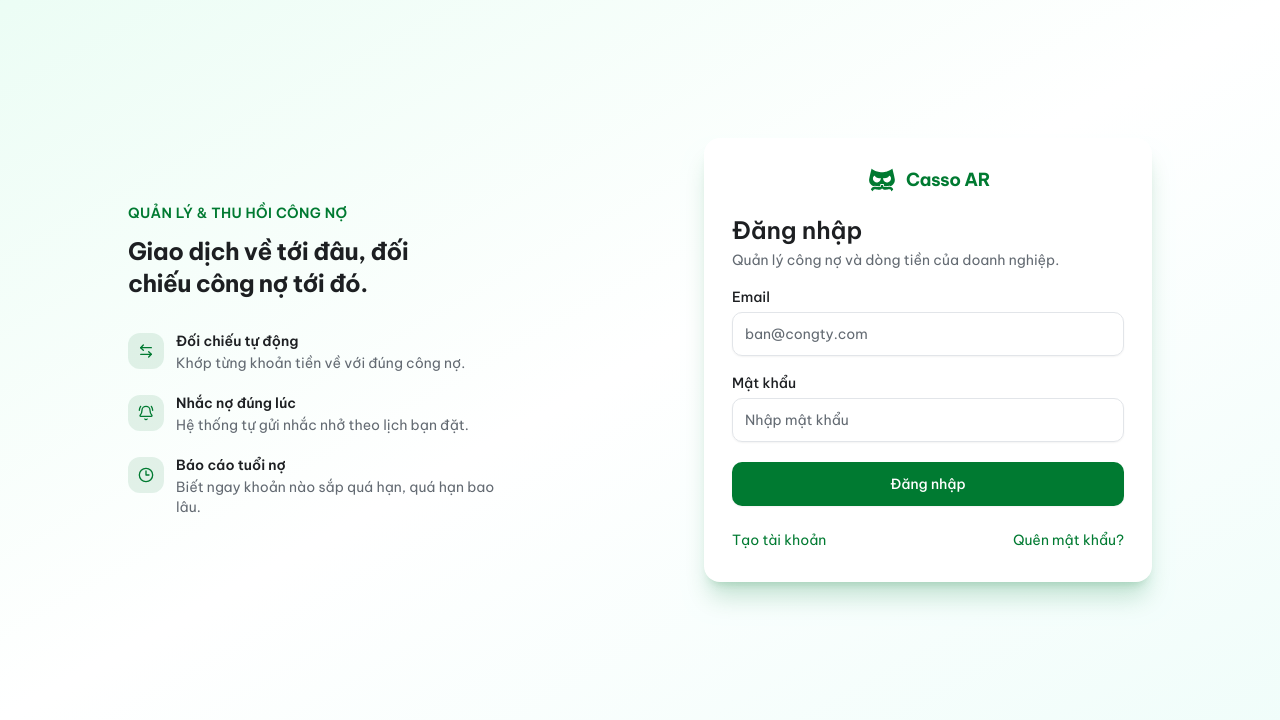
Test: LoginPage › does not blame credentials when the server or network fails
The image size is (1280, 720).
In the field labelled "Email": (928, 334) x1=732 y1=312 x2=1124 y2=356, type "owner@casso.vn"
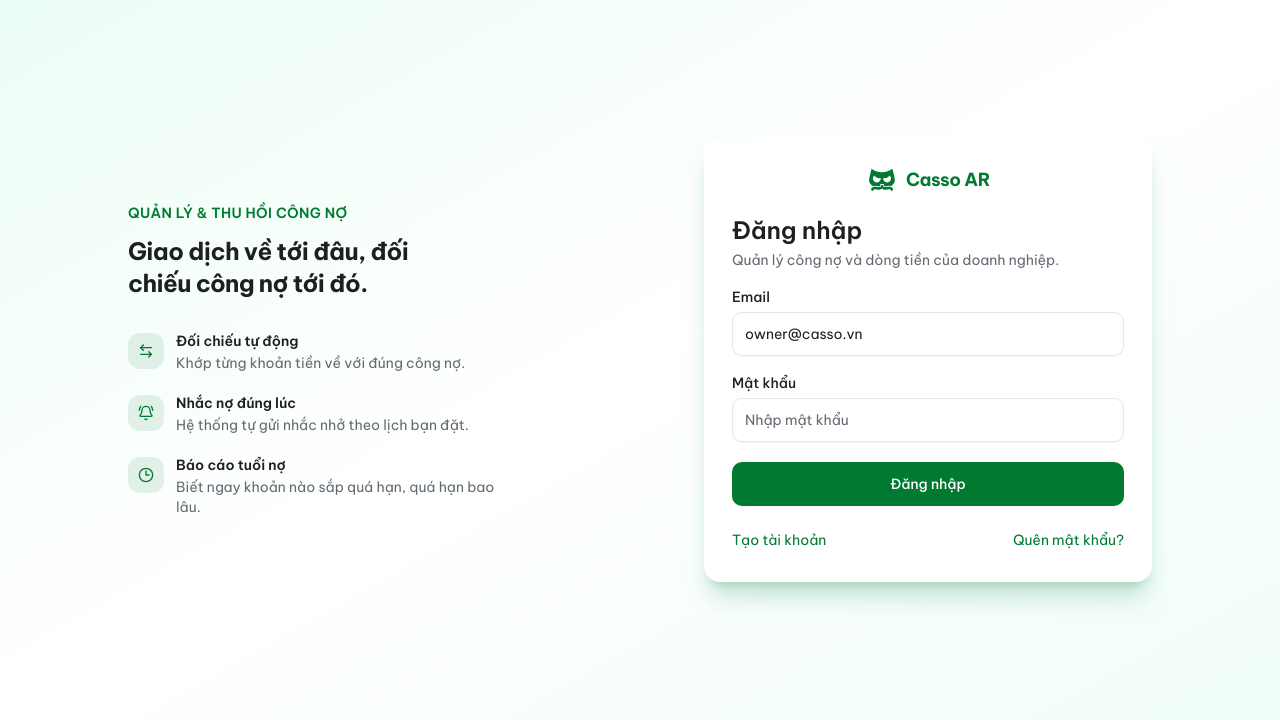
In the password field labelled "Mật khẩu": (928, 420) x1=732 y1=398 x2=1124 y2=442, type "secret123"
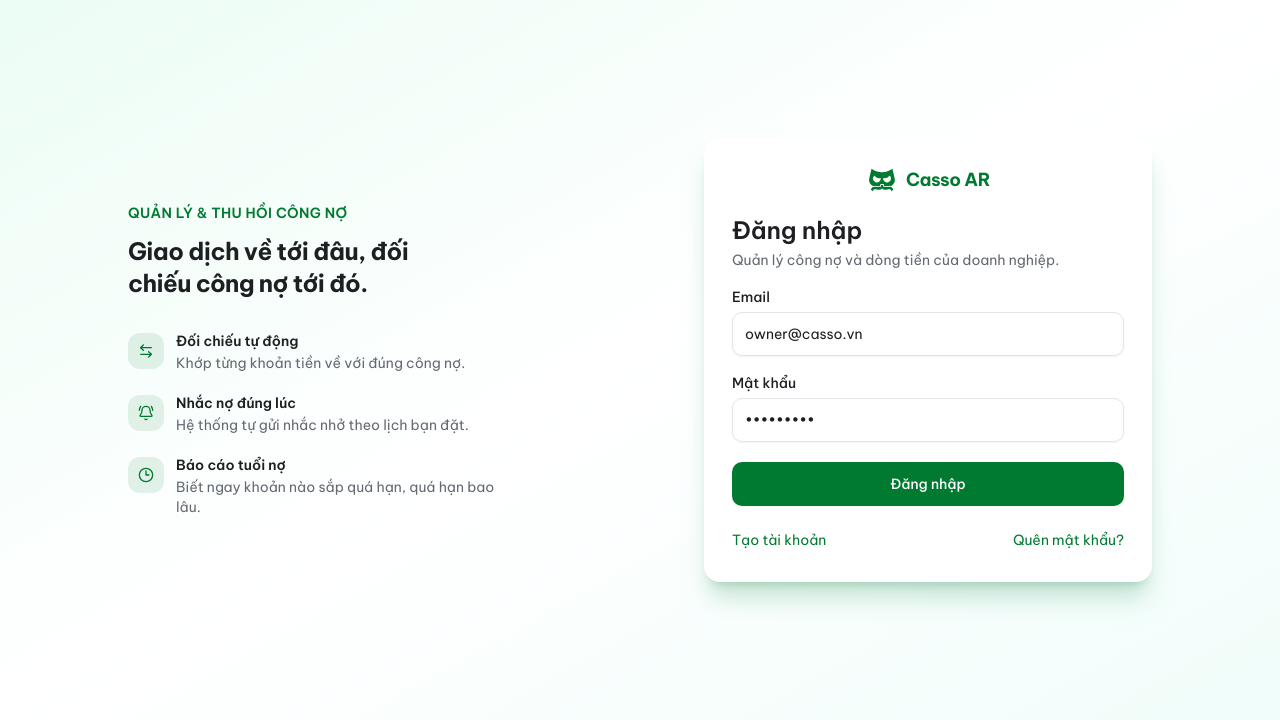
Click the button "Đăng nhập": (928, 484) x1=732 y1=462 x2=1124 y2=506
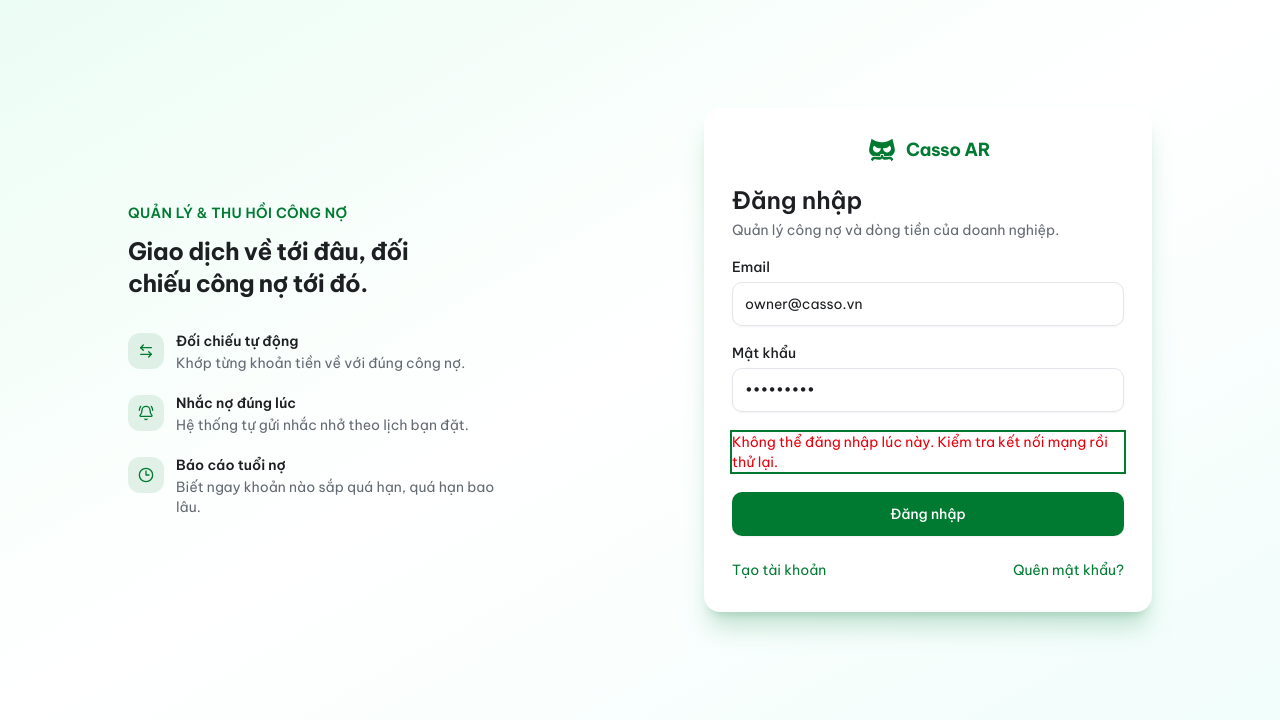
Now the text "Không thể đăng nhập lúc này. Kiểm tra kết nối mạng rồi thử lại." is shown, box x1=732 y1=432 x2=1124 y2=472
